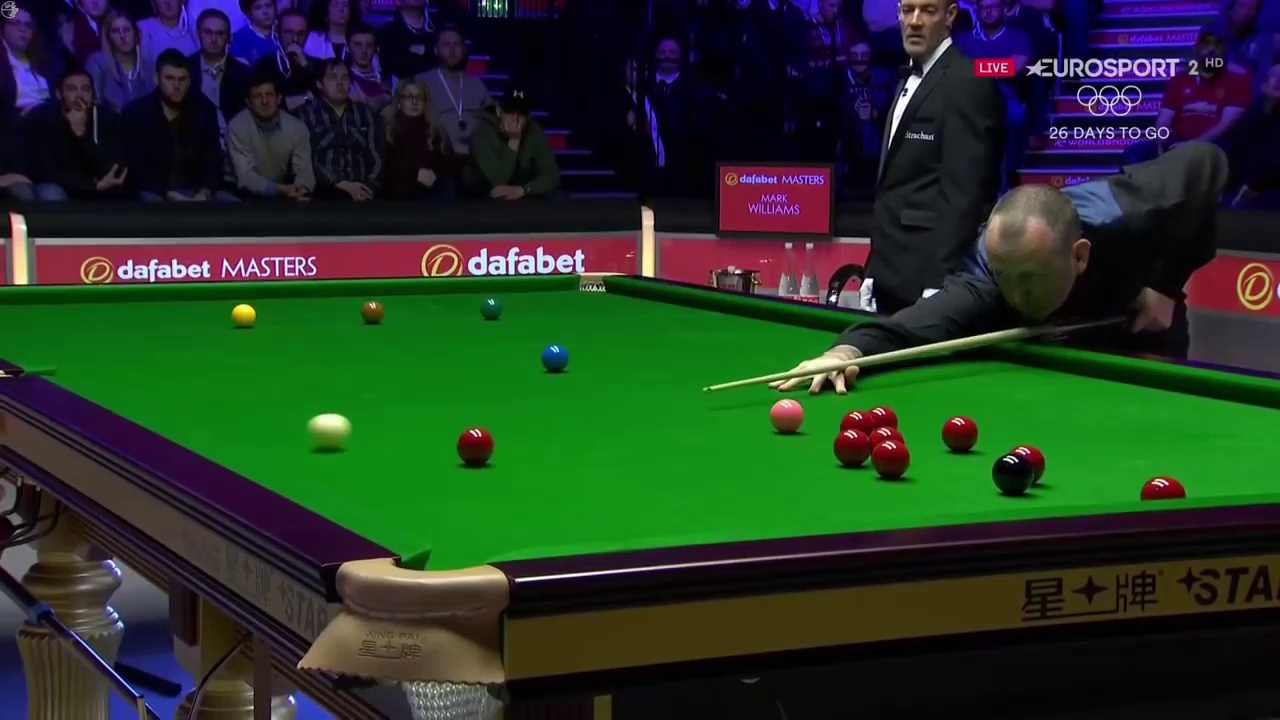black: (993, 457, 1033, 494)
blue: (539, 343, 569, 374)
brown: (362, 300, 384, 322)
green: (481, 296, 501, 320)
pink: (768, 399, 804, 432)
red: (455, 428, 492, 465), (944, 414, 976, 455), (874, 444, 909, 478), (835, 431, 869, 465)
white: (306, 415, 352, 449)
yellow: (230, 299, 256, 328)
